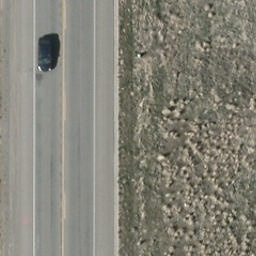car: (36, 35, 55, 73)
